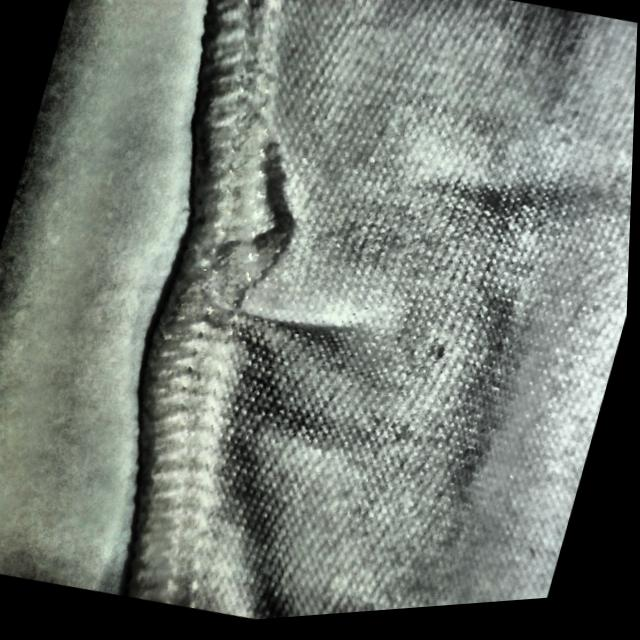seam: (154, 116, 406, 397)
